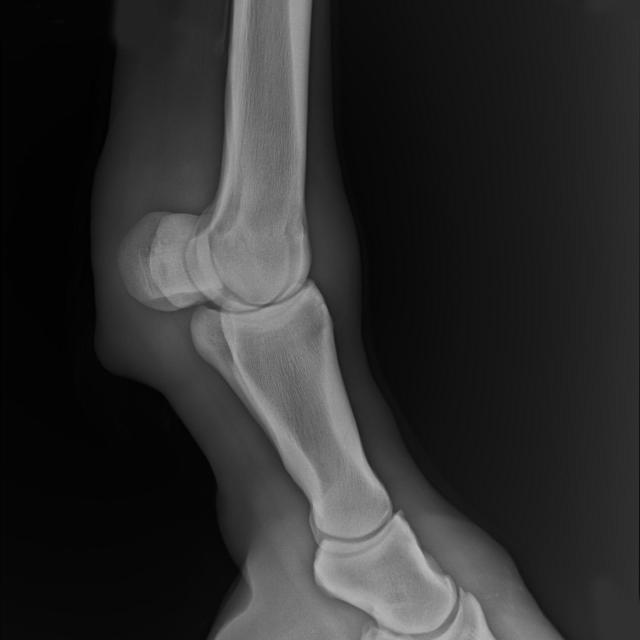joint-ht8A: (108, 120, 377, 417)
